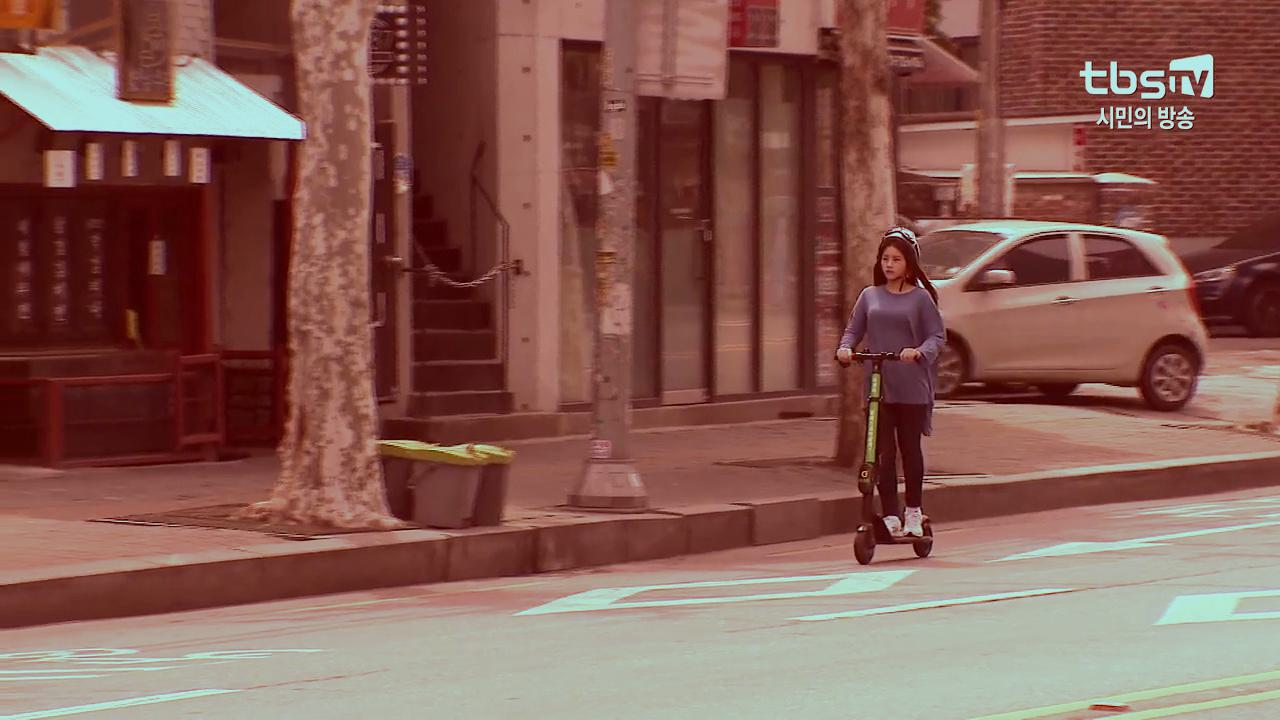helmet: (834, 223, 949, 565)
